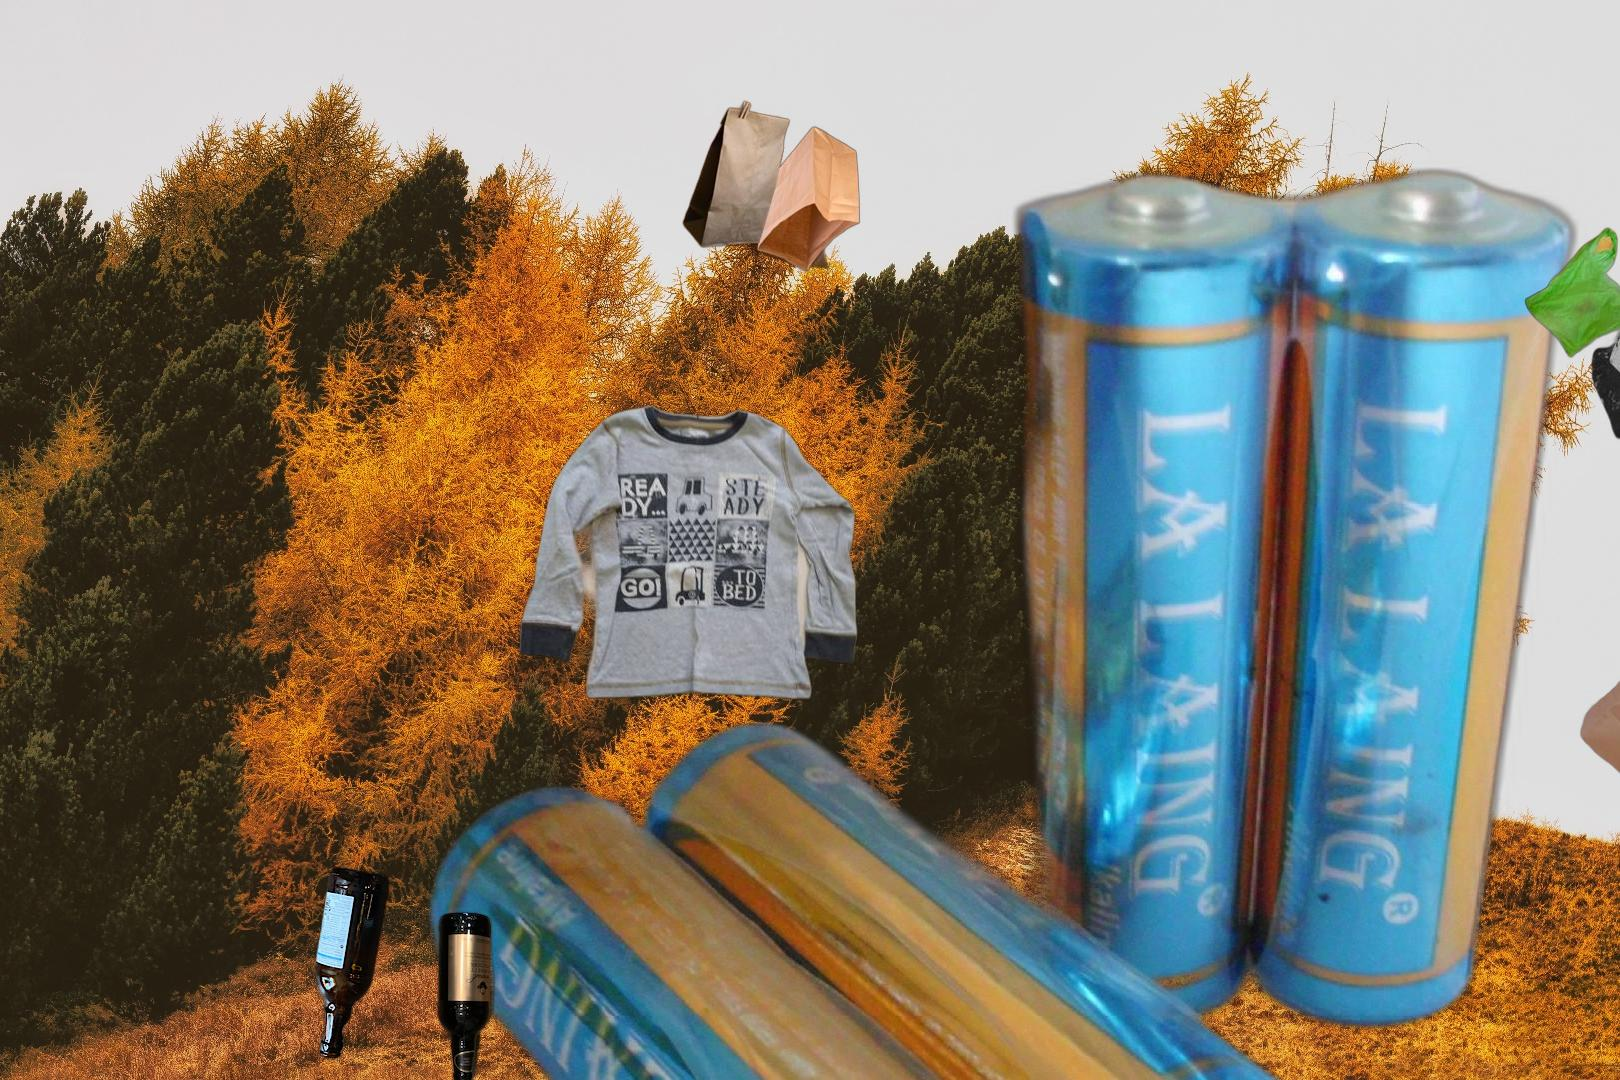battery: (411, 158, 1587, 1080)
clothes: (517, 401, 861, 703)
glass: (310, 859, 394, 1066), (433, 909, 499, 1080)
metal-cans: (1471, 711, 1620, 1080)
paper-bag: (680, 98, 863, 274), (1578, 630, 1620, 818)
plastic-bag: (1522, 225, 1620, 441)
